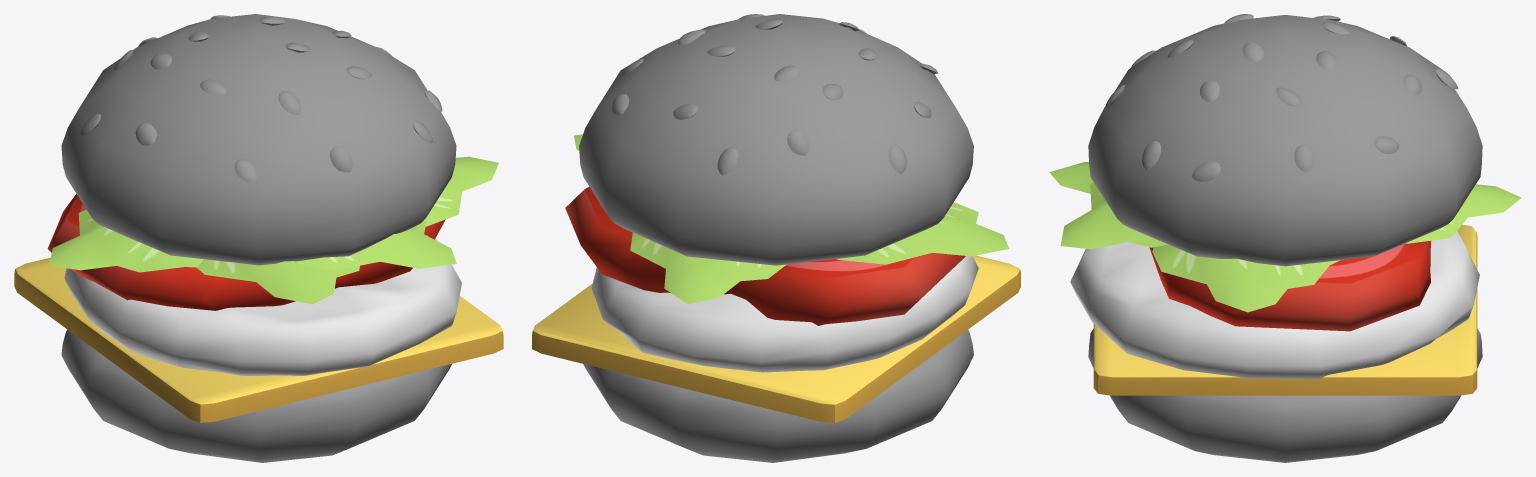
File: hamburgerset.fbx
3 renders of one model, left to right at view 1: azimuth 30°, elevation 25°; view 2: azimuth 150°, elevation 25°; view 3: azimuth 270°, elevation 25°, orthographic.
Visible parts, largest first — view 1: bread_top, Patty_ori, bread_bot, cheese, Cabbage1_ori, tomato_cut_004; view 2: bread_top, Patty_ori, cheese, bread_bot, tomato_cut_004, Cabbage1_ori; view 3: bread_top, Patty_ori, bread_bot, cheese, tomato_cut_004, Cabbage1_ori.
Boxes of the visible parts, left/top/right/bottom form: bread_top: left=61, top=14, right=456, bottom=265; Patty_ori: left=64, top=238, right=461, bottom=375; bread_bot: left=61, top=329, right=451, bottom=462; cheese: left=14, top=257, right=503, bottom=422; Cabbage1_ori: left=49, top=156, right=498, bottom=304; tomato_cut_004: left=47, top=194, right=445, bottom=310; bread_top: left=579, top=14, right=973, bottom=265; Patty_ori: left=591, top=256, right=978, bottom=372; cheese: left=532, top=255, right=1020, bottom=422; bread_bot: left=583, top=330, right=973, bottom=462; tomato_cut_004: left=565, top=186, right=965, bottom=325; Cabbage1_ori: left=574, top=134, right=1009, bottom=304; bread_top: left=1088, top=14, right=1482, bottom=266; Patty_ori: left=1070, top=231, right=1479, bottom=378; bread_bot: left=1088, top=329, right=1482, bottom=462; cheese: left=1093, top=224, right=1477, bottom=395; tomato_cut_004: left=1149, top=240, right=1430, bottom=331; Cabbage1_ori: left=1049, top=162, right=1521, bottom=312.
Size of the model in its own units: 0.6872 by 0.5662 by 0.6302.
